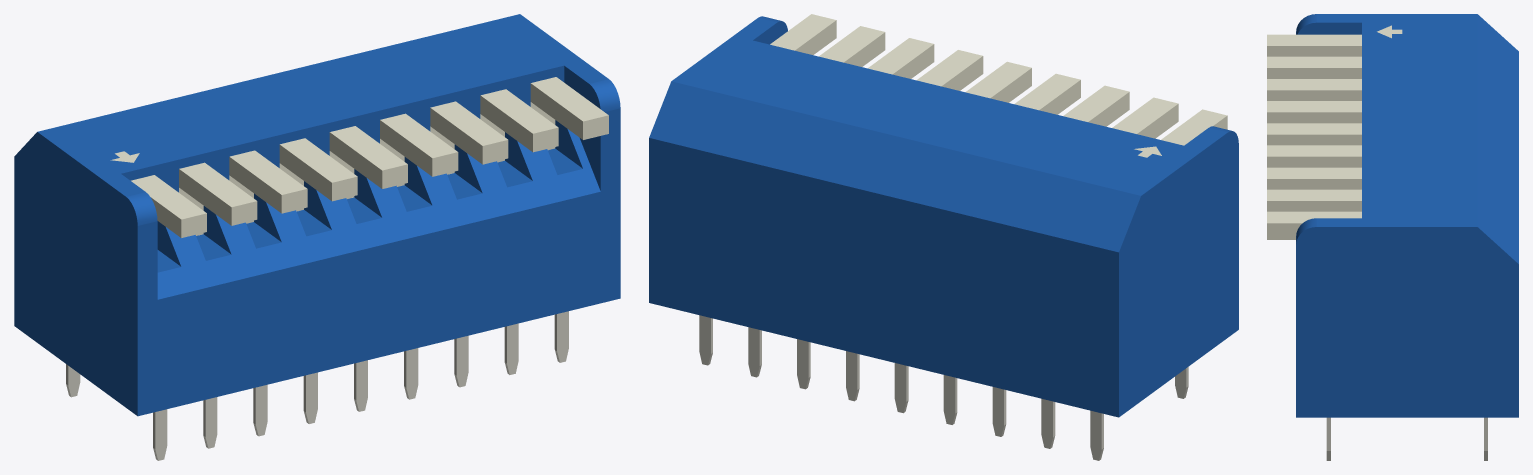
The model's file is kc-sw_dip_spstx09_piano_10.8x24.42mm_w7.62mm_p2.54mm.glb.
The picture shows the model from 3 angles, left to right: view 1: azimuth 30°, elevation 25°; view 2: azimuth 150°, elevation 25°; view 3: azimuth 270°, elevation 25°; orthographic projection. The views are drawn at different scales.
Visible parts, largest first — view 1: 0_0.16666666666666666_0.5_0, 0.75_0.75_0.6666666666666666_0, 0.6666666666666666_0.6666666666666666_0.5833333333333334_0.8; view 2: 0_0.16666666666666666_0.5_0, 0.75_0.75_0.6666666666666666_0, 0.6666666666666666_0.6666666666666666_0.5833333333333334_0.8; view 3: 0_0.16666666666666666_0.5_0, 0.75_0.75_0.6666666666666666_0, 0.6666666666666666_0.6666666666666666_0.5833333333333334_0.8.
Part boxes in pixels (x1,y1,x2,y2): 0_0.16666666666666666_0.5_0: [14, 14, 620, 416]; 0.75_0.75_0.6666666666666666_0: [110, 77, 608, 237]; 0.6666666666666666_0.6666666666666666_0.5833333333333334_0.8: [66, 311, 568, 460]; 0_0.16666666666666666_0.5_0: [649, 16, 1238, 417]; 0.75_0.75_0.6666666666666666_0: [770, 14, 1227, 157]; 0.6666666666666666_0.6666666666666666_0.5833333333333334_0.8: [699, 315, 1188, 460]; 0_0.16666666666666666_0.5_0: [1296, 14, 1518, 417]; 0.75_0.75_0.6666666666666666_0: [1267, 25, 1402, 239]; 0.6666666666666666_0.6666666666666666_0.5833333333333334_0.8: [1326, 417, 1487, 460].
Size of the model in its own units: 2.44 by 1.34 by 1.22.
